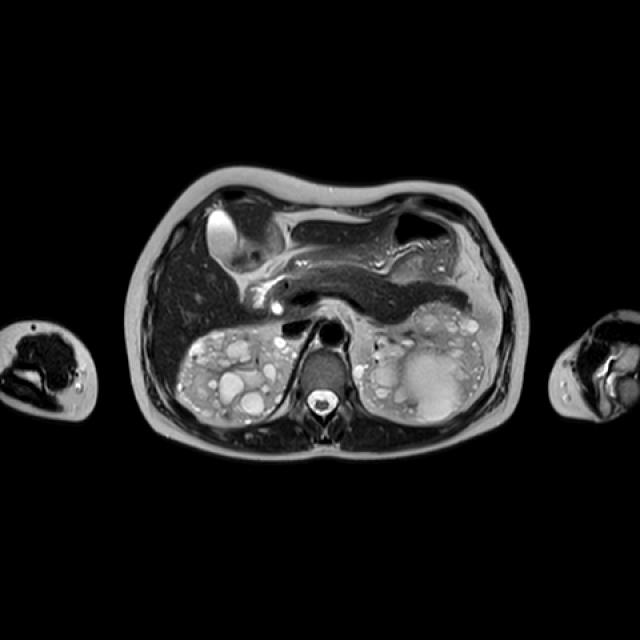sag: (180, 325, 298, 425)
sol: (355, 300, 487, 425)
